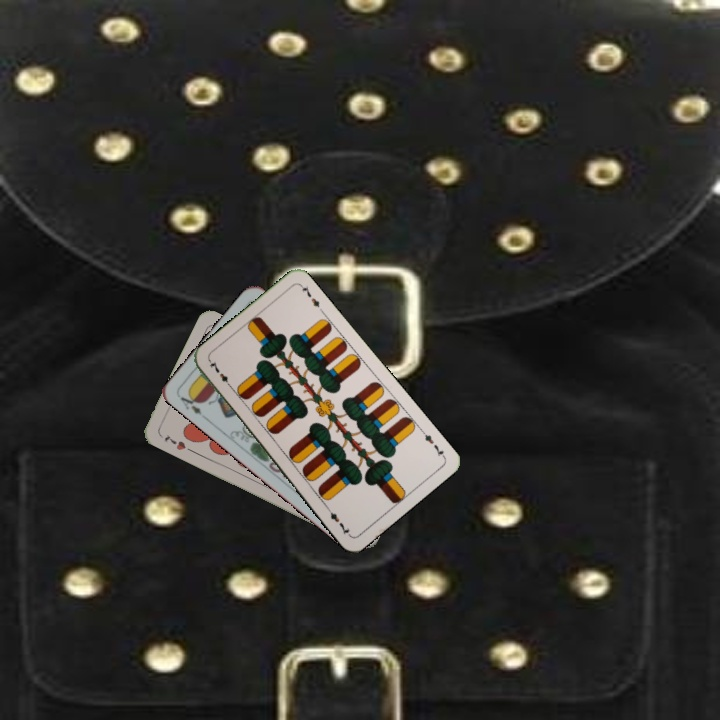E7: (205, 357, 235, 391), (417, 426, 447, 460)
EA: (176, 388, 209, 421)
H7: (160, 430, 188, 453)
